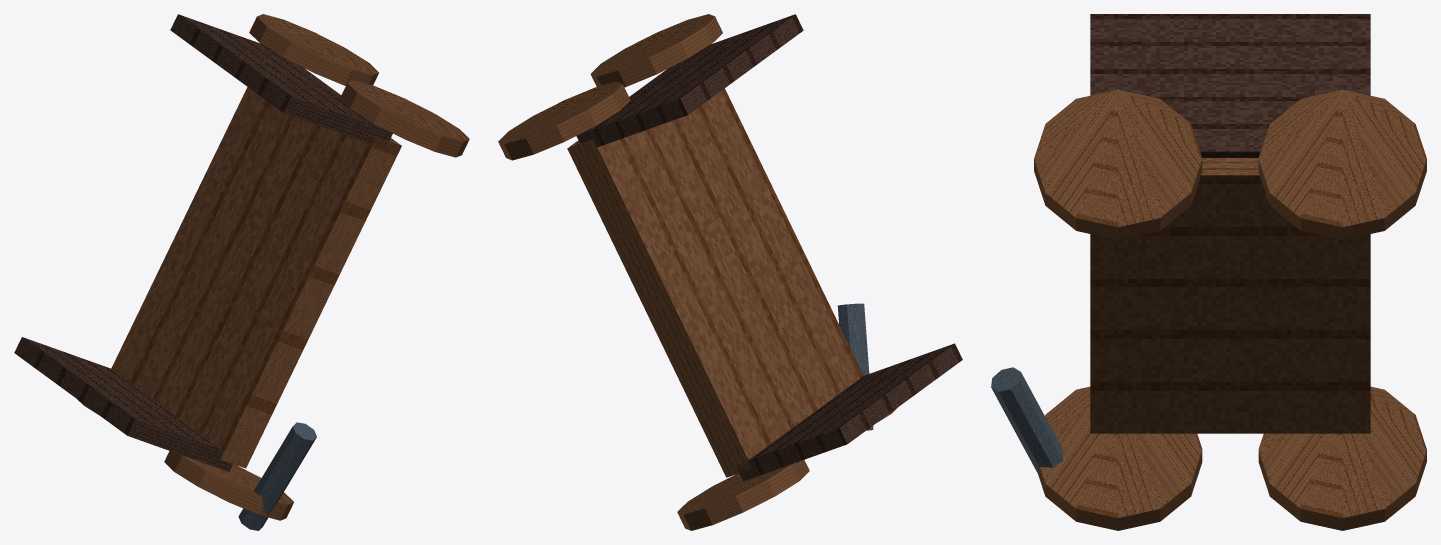
File: fallen_wagon.glb
3 views of the same model, side by side, from view 1: azimuth 30°, elevation 25°; view 2: azimuth 150°, elevation 25°; view 3: azimuth 270°, elevation 25° (orthographic). The views are drawn at different scales.
Parts seen in each view (by area): view 1: bed, side (×2), wheel (×3), broken_axle; view 2: bed, side (×2), wheel (×3), broken_axle; view 3: wheel (×4), bed, side, broken_axle.
Part boxes in pixels (<box>): bed: <box>111,87,401,468</box>; side (×2): <box>14,14,392,471</box>; wheel (×3): <box>164,14,469,520</box>; broken_axle: <box>238,422,316,530</box>; bed: <box>567,88,863,477</box>; side (×2): <box>576,14,962,481</box>; wheel (×3): <box>498,14,809,530</box>; broken_axle: <box>837,303,873,430</box>; wheel (×4): <box>1034,89,1426,530</box>; bed: <box>1090,158,1370,433</box>; side: <box>1090,14,1370,157</box>; broken_axle: <box>991,367,1063,473</box>.
Size of the model in its own units: 1.75 by 2.04 by 1.55.
1 material, 1 textured.
